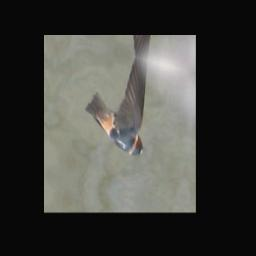Swallow: (81, 45, 154, 163)
